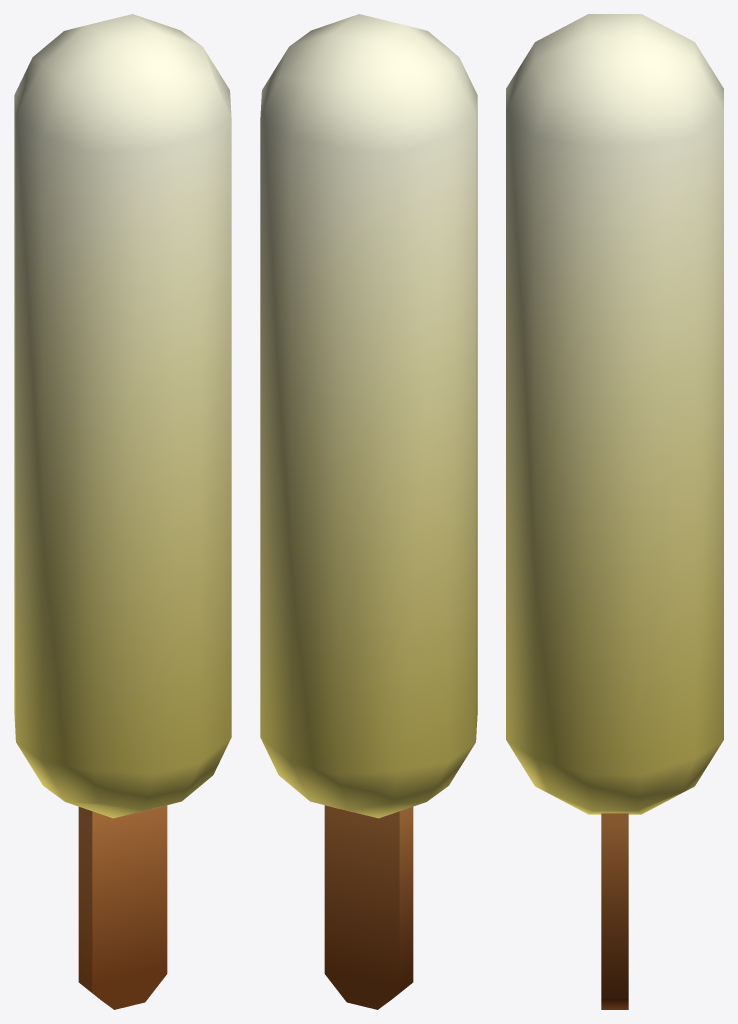
Rendered from m_PopsicleStick02.fbx.
3 views of the same model, side by side, from view 1: azimuth 30°, elevation 25°; view 2: azimuth 150°, elevation 25°; view 3: azimuth 270°, elevation 25° (orthographic).
Parts seen in each view (by area): view 1: m_PopsicleStick02; view 2: m_PopsicleStick02; view 3: m_PopsicleStick02.
Part boxes in pixels (bbox=[...]): m_PopsicleStick02: bbox=[14, 14, 231, 1009]; m_PopsicleStick02: bbox=[260, 14, 477, 1009]; m_PopsicleStick02: bbox=[506, 14, 723, 1009].
Size of the model in its own units: 4.64 by 22.99 by 4.64.
